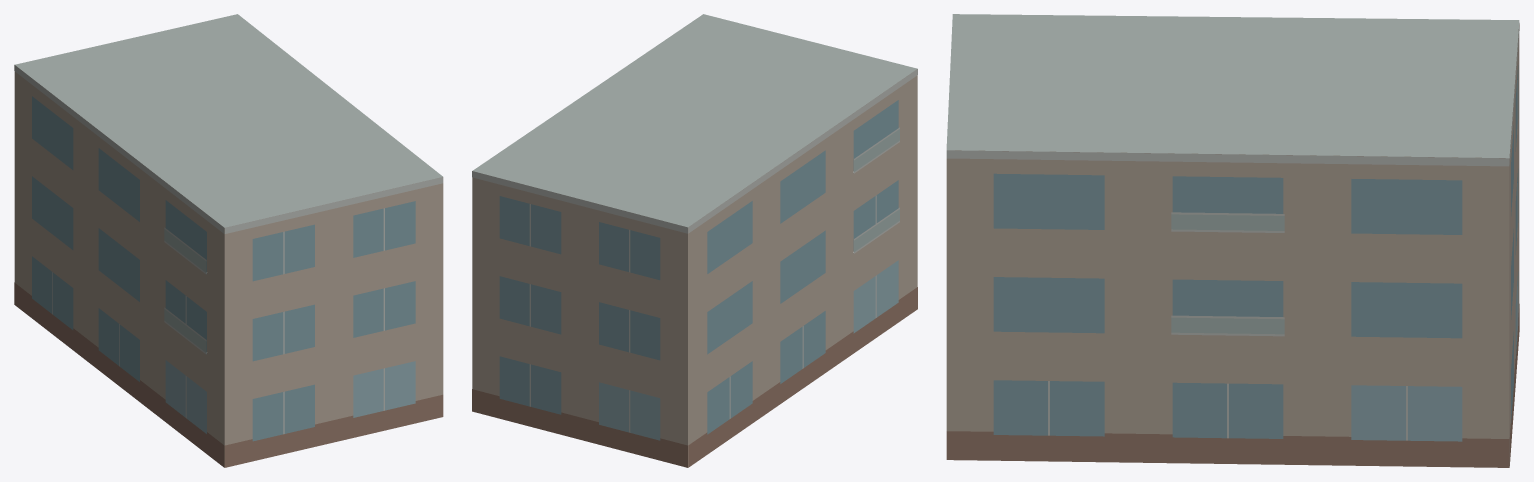
Rendered from survey-upis-32687669.glb.
3 views of the same model, side by side, from view 1: azimuth 30°, elevation 25°; view 2: azimuth 150°, elevation 25°; view 3: azimuth 270°, elevation 25° (orthographic). The views are drawn at different scales.
Parts seen in each view (by area): view 1: survey-upis-32687669.tmp; view 2: survey-upis-32687669.tmp; view 3: survey-upis-32687669.tmp.
Part boxes in pixels (x1=…): survey-upis-32687669.tmp: x1=14, y1=14, x2=443, y2=467; survey-upis-32687669.tmp: x1=472, y1=14, x2=917, y2=467; survey-upis-32687669.tmp: x1=946, y1=14, x2=1519, y2=467.
Size of the model in its own units: 9.15 by 9.15 by 15.35.
